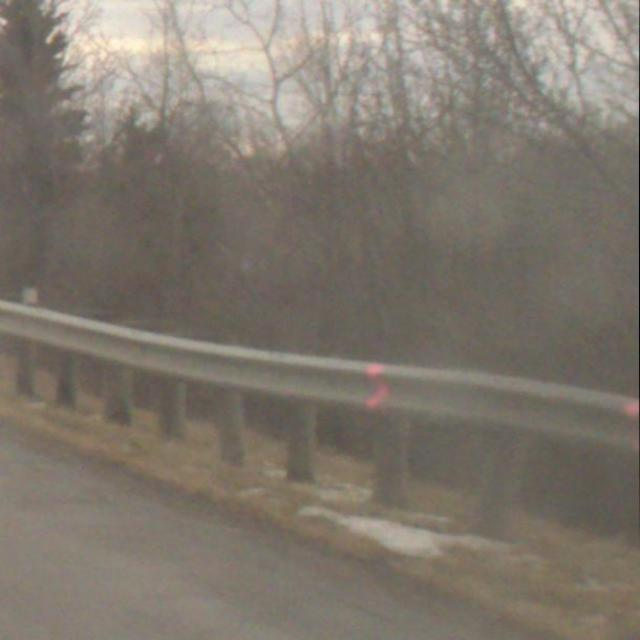Guard rail: (1, 273, 640, 566)
